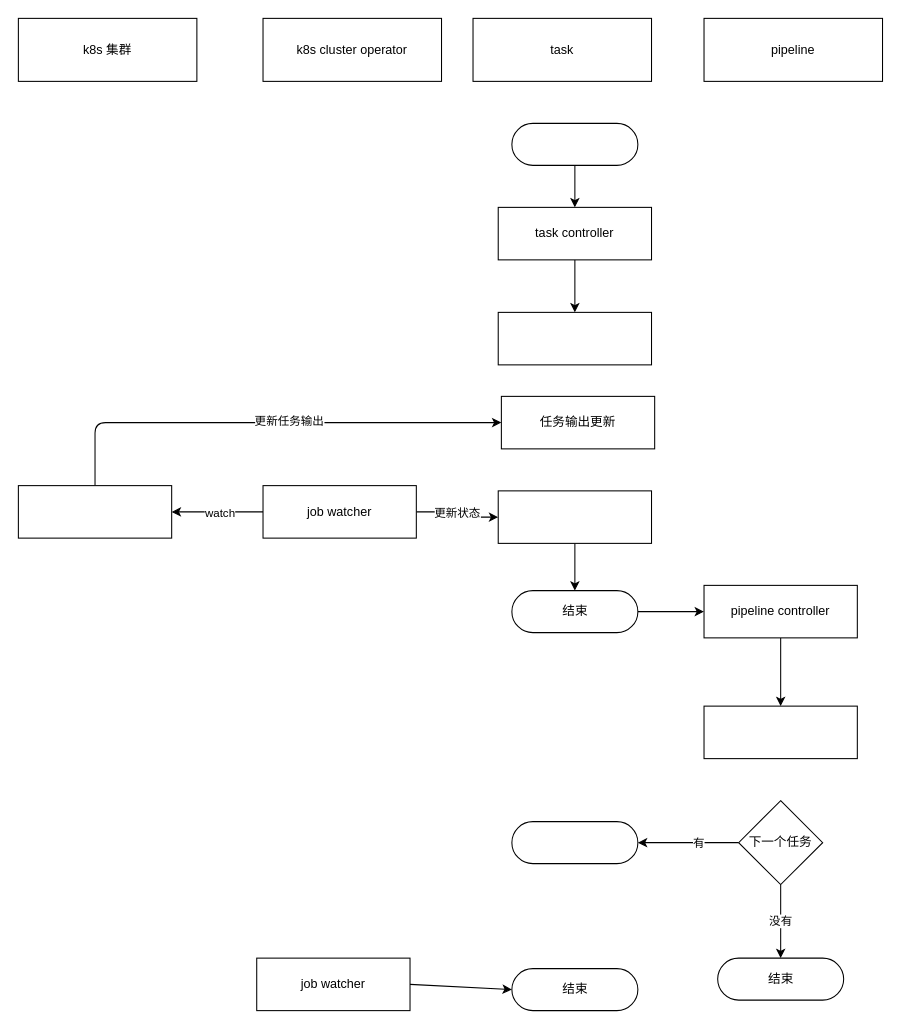
The diagram is 901 pixels wide and 1029 high, and some of its shapes have lost their labels. Each missing label, with the centre of its shape:
job runner: point 94,511
runner(k8s runner): point 574,338
下一个任务 开启: point 574,842
任务状态变更: point 574,516
开启: point 574,143
查询任务: point 780,732
